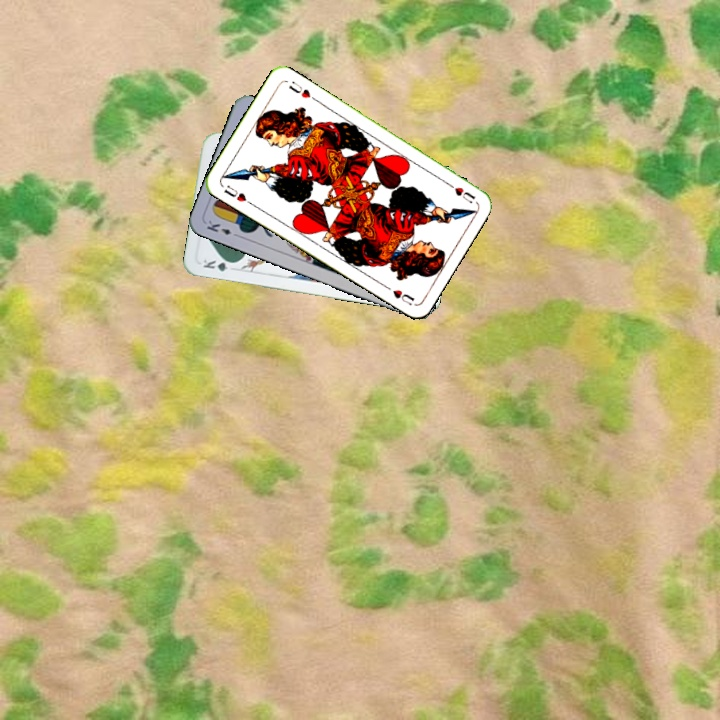EK: (203, 216, 242, 240)
GK: (199, 255, 239, 274)
HU: (442, 178, 478, 206), (220, 181, 255, 208)
